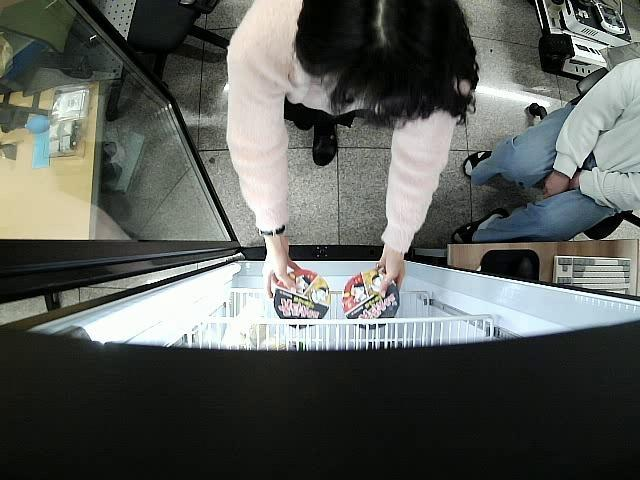07_buldak_L: (342, 273, 399, 330), (274, 272, 330, 326)
